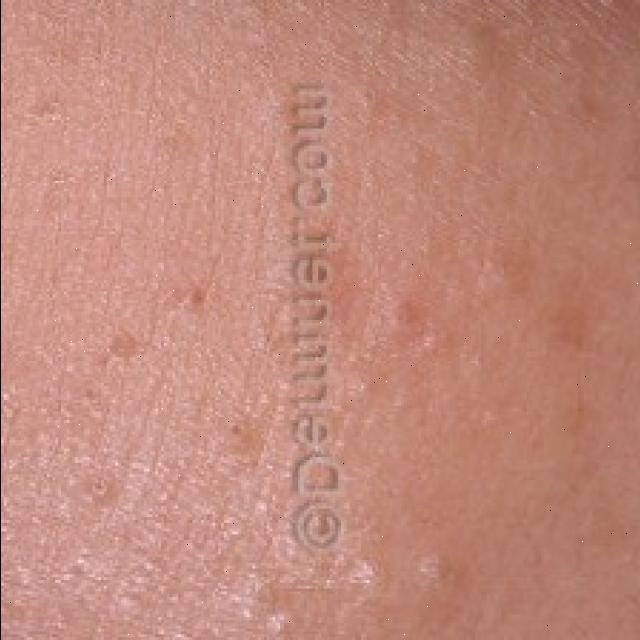Acne: (86, 268, 518, 640)
